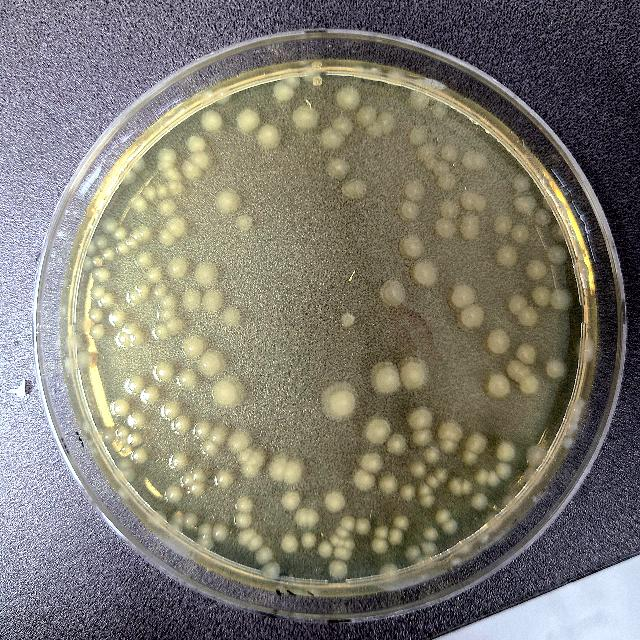colony: (322, 381, 361, 422), (396, 356, 429, 390), (370, 361, 402, 395), (212, 378, 244, 407), (410, 258, 440, 288), (364, 416, 394, 446), (197, 346, 226, 376), (378, 279, 408, 307), (447, 282, 477, 310), (334, 85, 362, 111), (292, 104, 320, 130), (216, 188, 242, 216), (456, 305, 484, 331), (257, 124, 283, 150), (398, 234, 424, 260), (194, 260, 220, 286), (236, 108, 260, 134), (200, 108, 224, 134), (408, 406, 434, 430), (516, 342, 540, 368), (182, 336, 206, 360), (320, 127, 346, 149), (459, 214, 481, 240), (486, 374, 512, 396), (326, 156, 349, 180), (386, 433, 410, 455), (434, 218, 458, 240), (494, 244, 518, 266), (488, 330, 510, 354), (228, 430, 252, 452), (550, 288, 574, 310), (343, 180, 369, 200), (462, 150, 488, 170), (437, 421, 463, 441), (190, 150, 212, 172), (408, 90, 430, 112), (201, 290, 223, 312), (124, 374, 146, 396), (464, 433, 486, 455), (525, 444, 547, 466), (398, 200, 422, 220), (460, 192, 484, 212), (284, 460, 304, 484), (269, 456, 289, 480), (574, 338, 594, 362), (172, 412, 194, 433), (176, 368, 198, 389), (378, 562, 399, 584), (361, 452, 384, 472), (404, 180, 426, 200), (526, 260, 548, 280), (354, 471, 376, 491), (377, 474, 399, 494), (522, 465, 542, 487), (514, 195, 538, 213), (356, 105, 376, 126), (153, 362, 174, 382), (546, 243, 566, 264), (496, 441, 516, 462), (408, 124, 427, 146), (167, 218, 190, 236), (334, 116, 354, 136), (187, 134, 207, 154), (376, 113, 396, 133), (412, 429, 432, 449), (221, 306, 241, 326), (182, 290, 202, 310), (168, 258, 188, 278), (281, 491, 301, 511), (326, 492, 346, 512), (209, 425, 229, 445), (162, 400, 182, 420), (140, 384, 160, 404), (110, 398, 130, 418), (436, 172, 456, 192), (546, 359, 566, 379), (387, 67, 407, 87), (439, 200, 461, 218), (214, 469, 236, 487), (448, 477, 466, 499), (146, 511, 168, 529), (274, 82, 294, 101), (493, 217, 513, 236), (281, 70, 301, 88), (300, 64, 320, 82), (158, 200, 178, 218), (509, 295, 527, 315), (518, 307, 538, 325), (238, 528, 256, 548), (329, 560, 347, 580), (212, 523, 230, 543), (194, 420, 212, 440), (416, 142, 436, 160), (510, 173, 530, 191), (514, 365, 534, 383), (532, 286, 550, 306), (552, 221, 570, 241), (182, 162, 204, 178), (77, 350, 93, 372), (109, 308, 128, 326), (156, 228, 174, 246), (512, 225, 530, 243), (281, 535, 299, 553), (256, 546, 274, 564), (371, 538, 389, 556), (236, 494, 254, 512), (246, 534, 264, 552), (202, 439, 220, 457), (128, 411, 146, 429), (534, 208, 552, 226), (166, 485, 184, 503), (502, 494, 520, 512), (484, 512, 502, 530), (158, 148, 178, 164), (400, 483, 416, 503), (234, 513, 254, 529), (496, 462, 512, 482), (420, 539, 440, 555), (102, 427, 118, 447), (333, 546, 353, 562), (240, 463, 260, 479), (236, 213, 254, 230), (471, 494, 489, 511), (168, 454, 186, 471), (506, 359, 522, 378), (439, 438, 458, 454), (368, 122, 384, 140), (442, 144, 458, 162), (131, 195, 147, 213), (164, 166, 182, 182), (356, 518, 372, 536), (301, 532, 317, 550), (318, 541, 334, 559), (388, 528, 404, 546), (443, 518, 459, 536), (411, 461, 429, 477), (262, 562, 280, 578), (198, 522, 216, 538), (197, 536, 215, 552), (160, 294, 178, 310), (146, 265, 162, 283), (432, 162, 450, 178), (522, 376, 538, 394), (404, 545, 422, 561), (130, 329, 146, 347), (119, 168, 137, 184), (65, 332, 83, 348), (238, 446, 254, 464), (294, 508, 308, 528), (91, 268, 111, 282), (424, 526, 441, 542), (153, 324, 170, 340), (215, 88, 232, 104), (433, 102, 449, 118), (393, 515, 409, 531), (152, 283, 168, 299), (136, 283, 152, 299), (461, 451, 477, 467), (487, 471, 503, 487), (183, 512, 199, 528), (88, 308, 104, 324), (120, 468, 136, 484), (142, 185, 156, 203), (168, 182, 186, 196), (306, 509, 320, 527), (168, 316, 182, 334), (192, 468, 210, 482), (131, 450, 149, 464), (126, 432, 144, 446), (129, 156, 147, 170), (64, 356, 78, 374), (248, 450, 266, 464), (157, 310, 177, 322), (190, 482, 207, 496), (418, 496, 436, 509), (341, 312, 355, 328), (341, 515, 355, 531), (375, 524, 389, 540), (436, 507, 450, 523), (126, 291, 142, 305), (138, 251, 152, 267), (434, 468, 450, 482), (115, 424, 131, 438), (100, 293, 114, 309), (90, 326, 106, 340), (116, 332, 130, 348), (114, 226, 128, 242), (104, 218, 118, 234), (94, 234, 108, 250), (102, 246, 116, 262), (335, 524, 351, 538), (80, 256, 94, 272), (458, 539, 474, 553), (156, 160, 174, 172), (474, 468, 486, 486), (424, 156, 438, 170), (201, 90, 215, 104), (90, 286, 104, 300), (116, 242, 130, 256), (118, 456, 132, 470), (156, 183, 168, 199), (418, 484, 434, 496), (182, 472, 194, 488), (85, 240, 97, 256), (462, 479, 473, 495), (92, 255, 105, 268), (425, 476, 439, 488), (140, 227, 152, 241), (126, 236, 138, 250), (562, 436, 574, 449), (344, 537, 356, 549), (574, 396, 586, 408), (124, 324, 138, 334), (132, 230, 142, 244), (330, 534, 340, 544)
